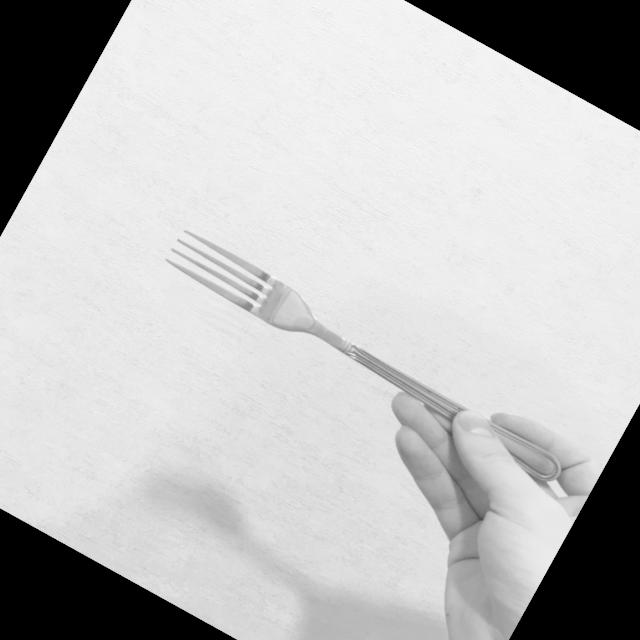fork: (153, 221, 590, 495)
